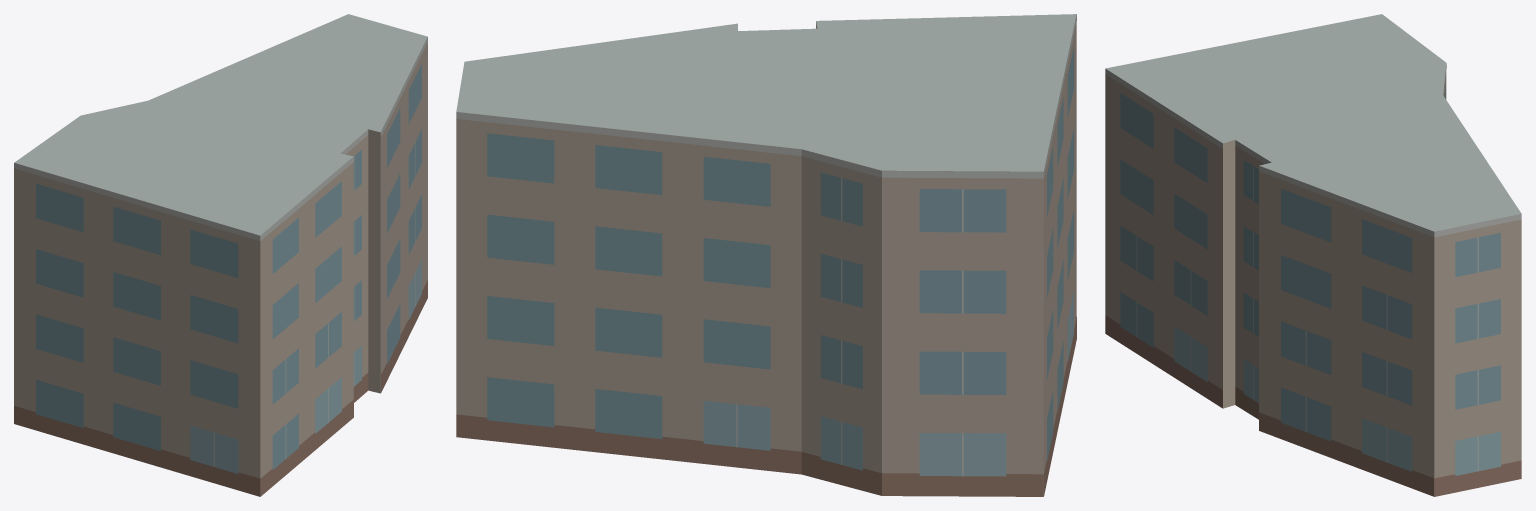
Rendered from survey-upis-33032762.glb.
3 views of the same model, side by side, from view 1: azimuth 30°, elevation 25°; view 2: azimuth 150°, elevation 25°; view 3: azimuth 270°, elevation 25° (orthographic). The views are drawn at different scales.
Visible parts, largest first — view 1: survey-upis-33032762.tmp; view 2: survey-upis-33032762.tmp; view 3: survey-upis-33032762.tmp.
Boxes of the visible parts, x1=… form: survey-upis-33032762.tmp: x1=14, y1=14, x2=427, y2=496; survey-upis-33032762.tmp: x1=456, y1=14, x2=1076, y2=496; survey-upis-33032762.tmp: x1=1105, y1=14, x2=1521, y2=496.
Bounding box in the file's own units: 20.08 × 11.4 × 16.23.
